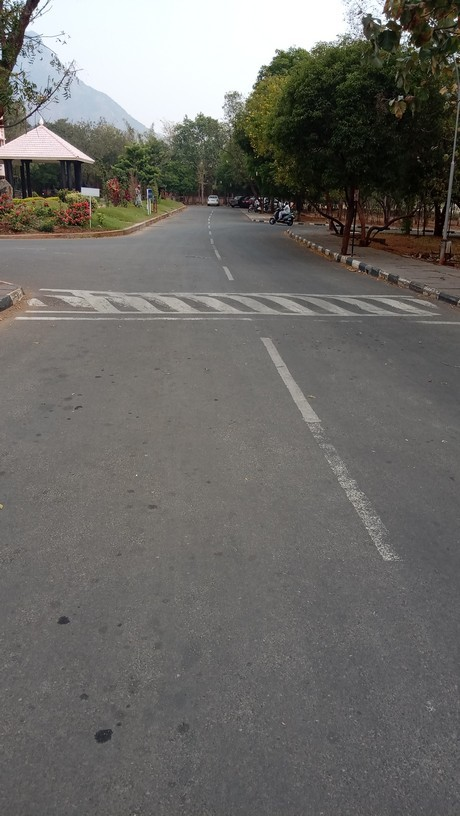bump: (17, 287, 439, 314)
